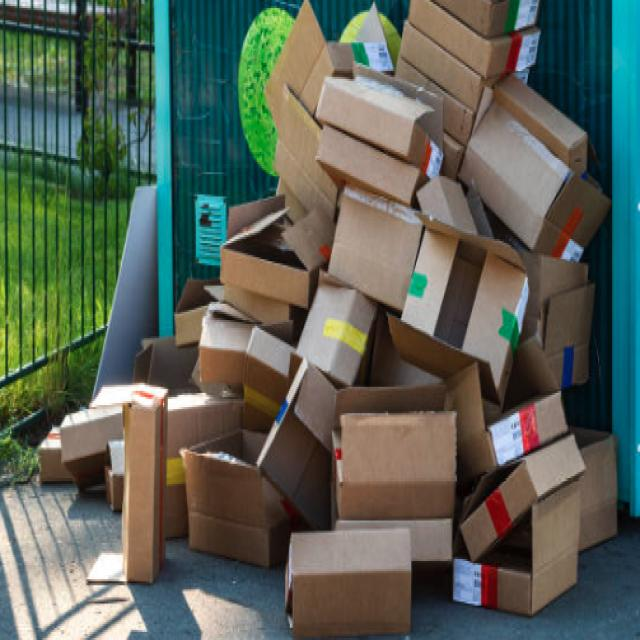Kardus: (123, 0, 617, 638)
